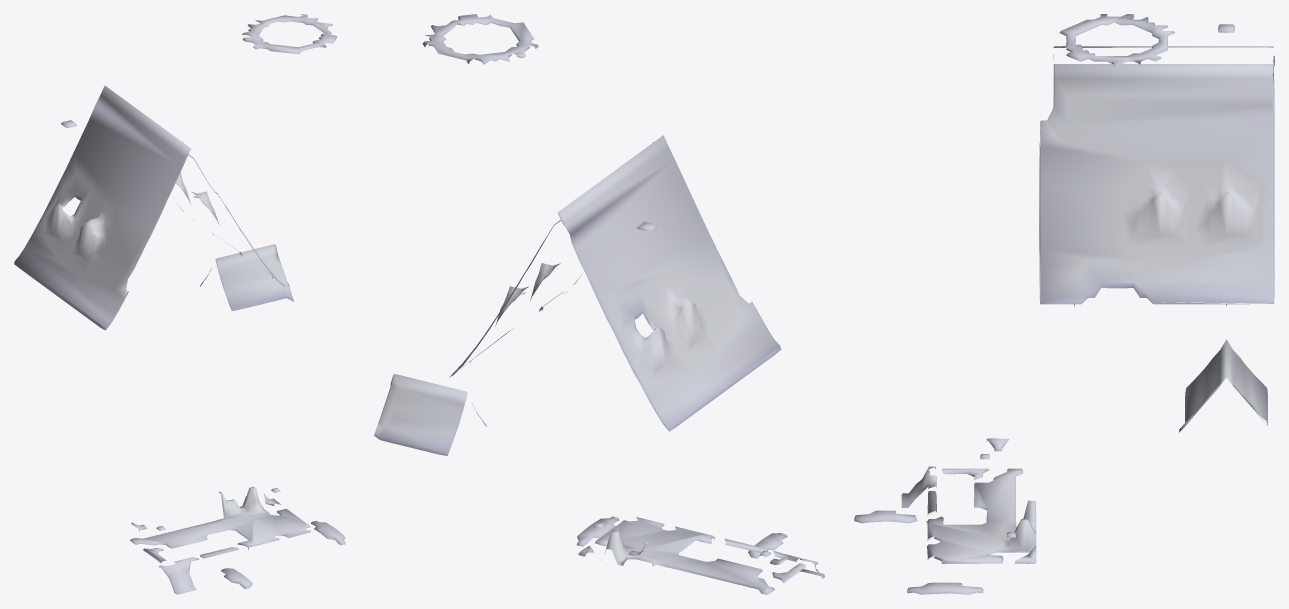
The model's file is category.bridge.xl.snow.glb.
3 views of the same model, side by side, from view 1: azimuth 30°, elevation 25°; view 2: azimuth 150°, elevation 25°; view 3: azimuth 270°, elevation 25° (orthographic). The views are drawn at different scales.
Visible parts, largest first — view 1: snow; view 2: snow; view 3: snow.
Boxes of the visible parts, x1,y1,x2,y2 form: snow: (14,14,345,594); snow: (374,14,825,594); snow: (854,14,1274,594).
Size of the model in its own units: 12.66 by 21.28 by 13.98.
